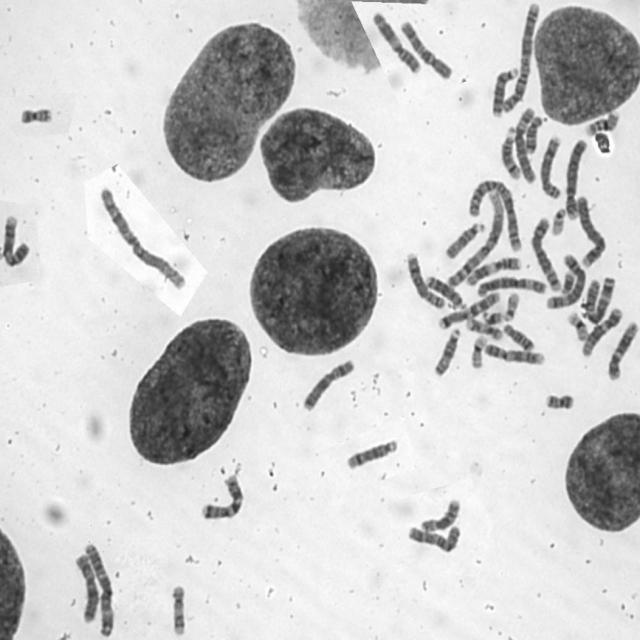A1: (96, 184, 188, 291), (444, 185, 506, 288)
A2: (499, 0, 543, 115), (465, 174, 524, 254)
A3: (81, 539, 117, 638), (579, 273, 617, 325)
B4: (574, 193, 608, 269), (562, 134, 590, 222)
B5: (528, 214, 564, 293), (543, 250, 588, 311)
C10: (397, 18, 454, 81), (403, 520, 462, 554)
C11: (370, 10, 422, 74), (464, 254, 522, 287)
C12: (579, 304, 624, 358), (605, 318, 638, 382)
C6: (511, 103, 537, 184), (475, 273, 548, 298)
C7: (435, 289, 500, 330), (198, 470, 246, 522)
C8: (404, 248, 446, 311), (537, 132, 563, 200)
C9: (481, 340, 547, 368), (0, 212, 31, 268)
D13: (423, 272, 467, 312), (489, 63, 520, 119)
D14: (343, 435, 399, 471), (499, 124, 522, 181)
D15: (442, 220, 488, 261), (431, 326, 462, 378)
E16: (419, 498, 462, 534), (583, 107, 622, 137)
E17: (167, 578, 189, 637), (463, 315, 504, 342)
E18: (501, 320, 536, 353), (523, 113, 544, 154)
F19: (564, 309, 590, 342), (468, 332, 488, 369)
F20: (17, 103, 55, 125), (542, 389, 576, 412)
G21: (480, 307, 506, 325), (559, 270, 577, 296)
G22: (501, 289, 521, 323), (548, 204, 567, 237)
X: (299, 354, 357, 412), (72, 550, 100, 624)
